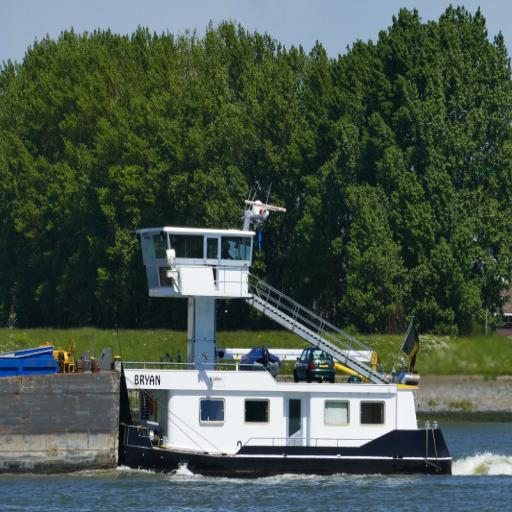tugboat: (53, 198, 479, 488)
